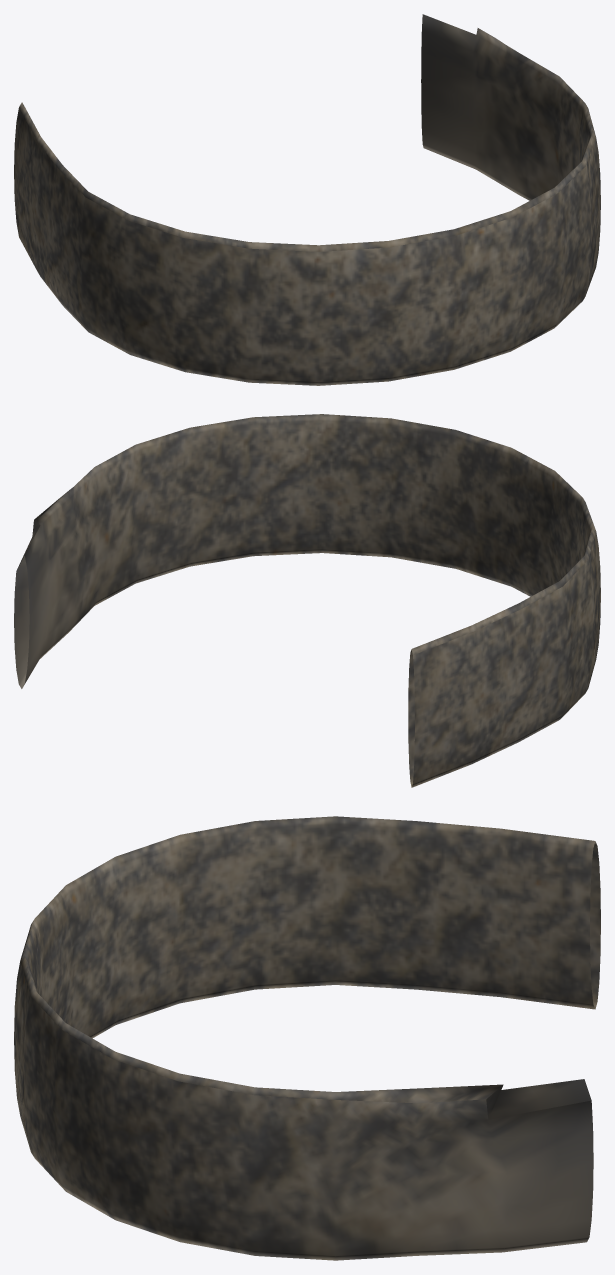
File: ArenaFlippedComplete.fbx
3 views of the same model, one above another, from view 1: azimuth 30°, elevation 25°; view 2: azimuth 150°, elevation 25°; view 3: azimuth 270°, elevation 25° (orthographic). The views are drawn at different scales.
Visible parts, largest first — view 1: ArenaProBuilder; view 2: ArenaProBuilder; view 3: ArenaProBuilder.
Part boxes in pixels (x1,y1,x2,y2): ArenaProBuilder: (14, 14, 600, 385); ArenaProBuilder: (14, 414, 600, 787); ArenaProBuilder: (14, 816, 600, 1260).
Bounding box in the file's own units: 7502 × 2088 × 6567.
